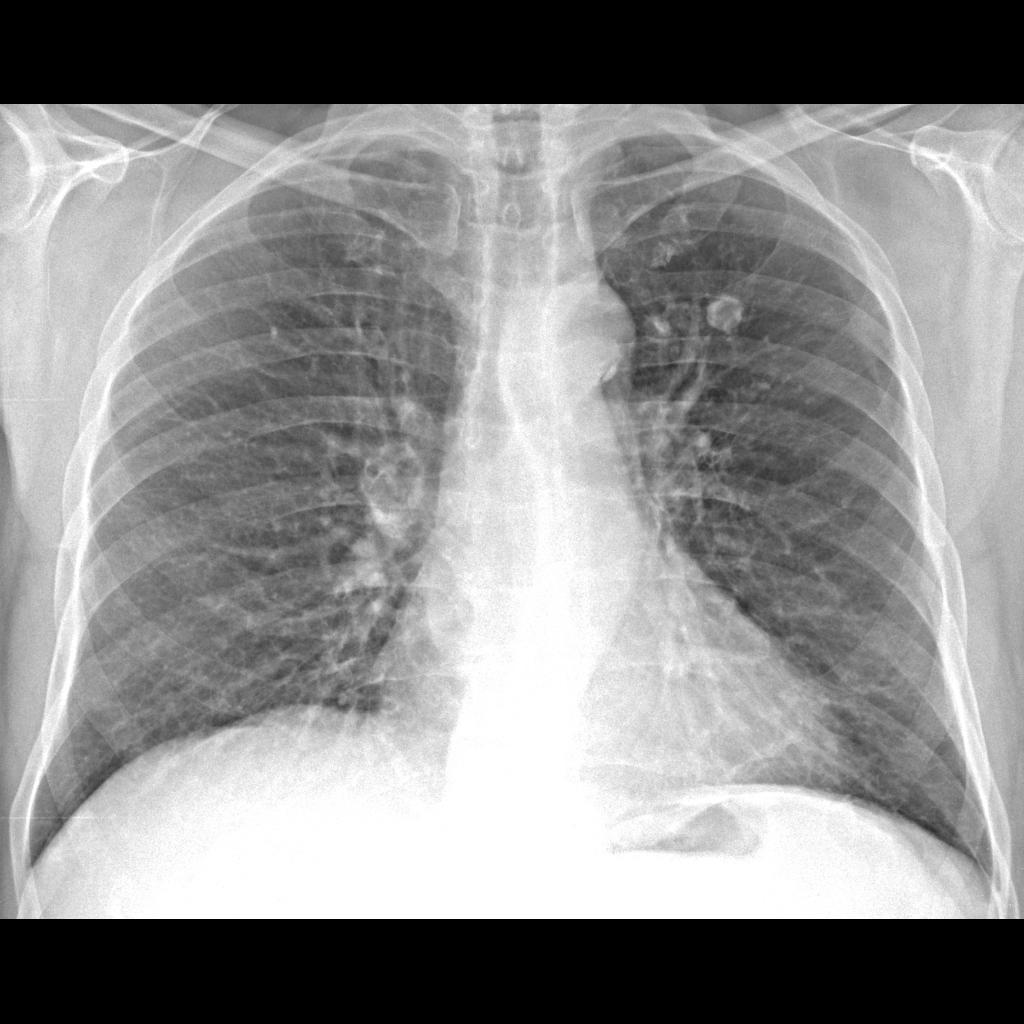Nodule: (357, 441, 429, 528), (705, 287, 749, 337)
